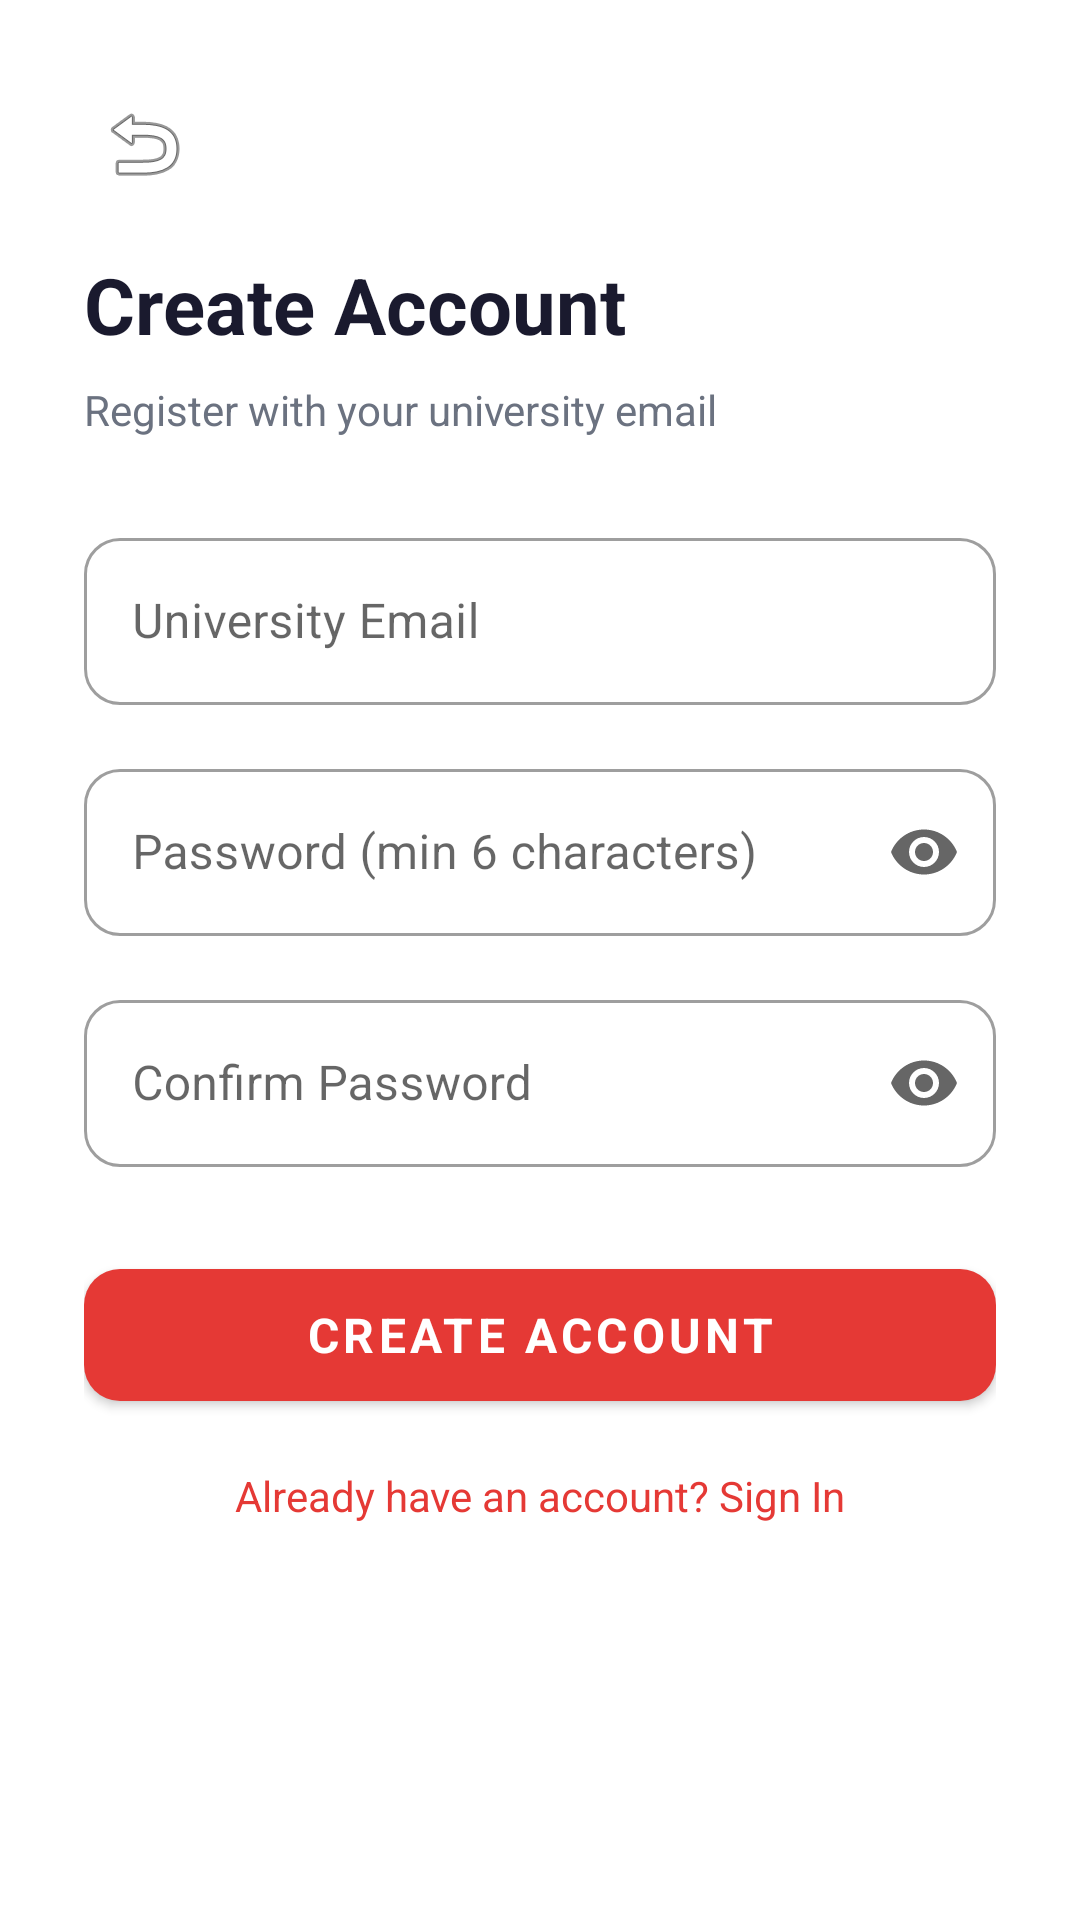

Where icons sit on this 1080*1920 app screen, as detection(x1, y1, x2, y2):
Back: detection(111, 113, 180, 176)
